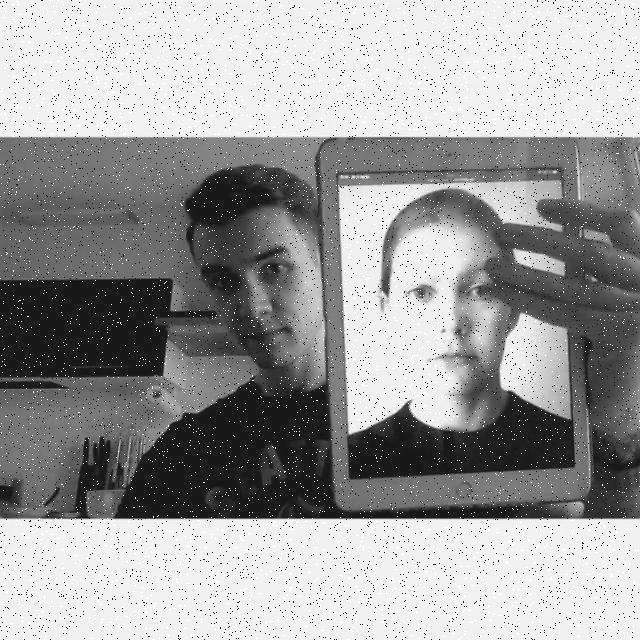fake: (317, 137, 604, 514)
real: (193, 212, 313, 369)
